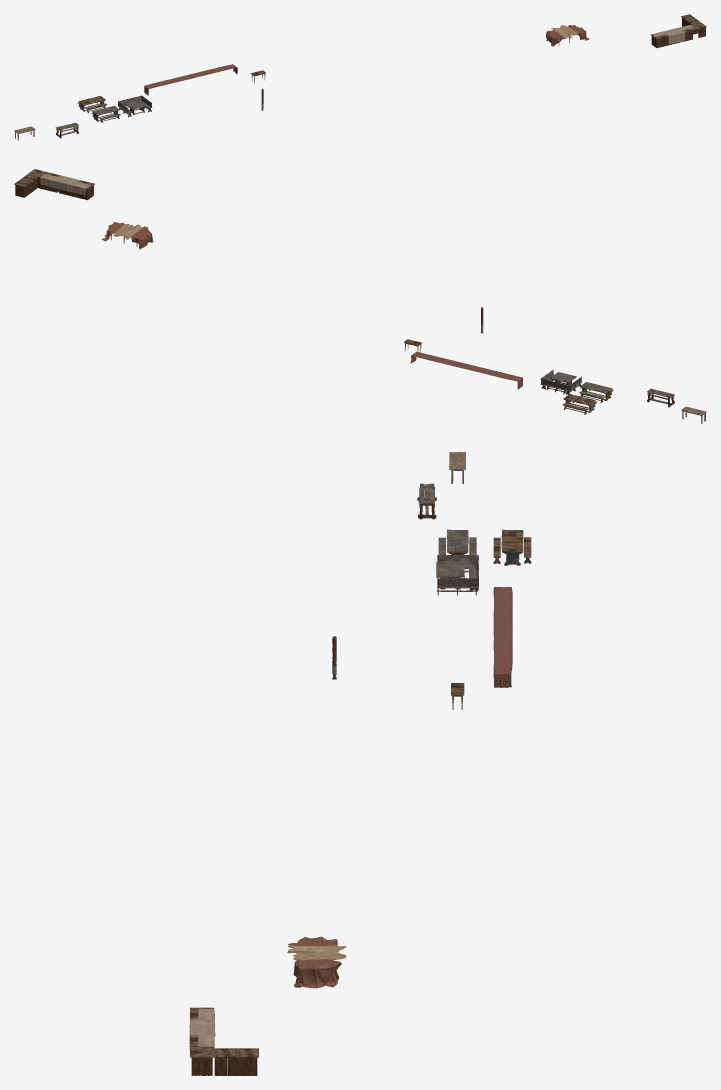
The model's file is enc_int_tabi.glb.
3 renders of one model, top to bottom at view 1: azimuth 30°, elevation 25°; view 2: azimuth 150°, elevation 25°; view 3: azimuth 270°, elevation 25°, orthographic. The views are drawn at different scales.
Parts seen in each view (by area): view 1: KB3D_ECI_PropTable_J_Main, KB3D_ECI_PropTable_G_Main, KB3D_ECI_PropTableFabric_A_Main, KB3D_ECI_PropTable_E_Main, KB3D_ECI_PropTable_D_Main, KB3D_ECI_PropTable_I_Main; view 2: KB3D_ECI_PropTable_J_Main, KB3D_ECI_PropTable_G_Main, KB3D_ECI_PropTableFabric_A_Main, KB3D_ECI_PropTable_E_Main, KB3D_ECI_PropTable_D_Main, KB3D_ECI_PropTable_I_Main; view 3: KB3D_ECI_PropTable_J_Main, KB3D_ECI_PropTable_G_Main, KB3D_ECI_PropTableFabric_A_Main, KB3D_ECI_PropTable_E_Main, KB3D_ECI_PropTable_I_Main.
Boxes of the visible parts, x1,y1,x2,y2 form: KB3D_ECI_PropTable_J_Main: (650, 14, 706, 47); KB3D_ECI_PropTable_G_Main: (546, 25, 589, 46); KB3D_ECI_PropTableFabric_A_Main: (144, 64, 237, 95); KB3D_ECI_PropTable_E_Main: (118, 95, 152, 117); KB3D_ECI_PropTable_D_Main: (91, 106, 120, 123); KB3D_ECI_PropTable_I_Main: (77, 96, 106, 113); KB3D_ECI_PropTable_J_Main: (14, 169, 94, 200); KB3D_ECI_PropTable_G_Main: (101, 222, 153, 249); KB3D_ECI_PropTableFabric_A_Main: (410, 351, 523, 389); KB3D_ECI_PropTable_E_Main: (540, 370, 581, 394); KB3D_ECI_PropTable_D_Main: (579, 382, 613, 402); KB3D_ECI_PropTable_I_Main: (562, 394, 596, 414); KB3D_ECI_PropTable_J_Main: (189, 1007, 258, 1075); KB3D_ECI_PropTable_G_Main: (287, 936, 346, 988); KB3D_ECI_PropTableFabric_A_Main: (493, 587, 512, 687); KB3D_ECI_PropTable_E_Main: (436, 555, 478, 595); KB3D_ECI_PropTable_I_Main: (493, 529, 531, 565).
Bounding box in the file's own units: 70.28 × 2.26 × 16.66.
Materials: 12 (12 with a texture image).
